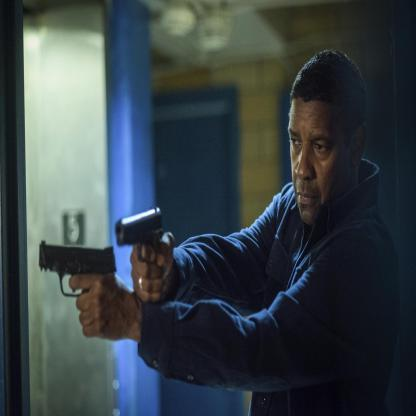Pistol: (36, 240, 116, 313), (111, 200, 172, 286)
